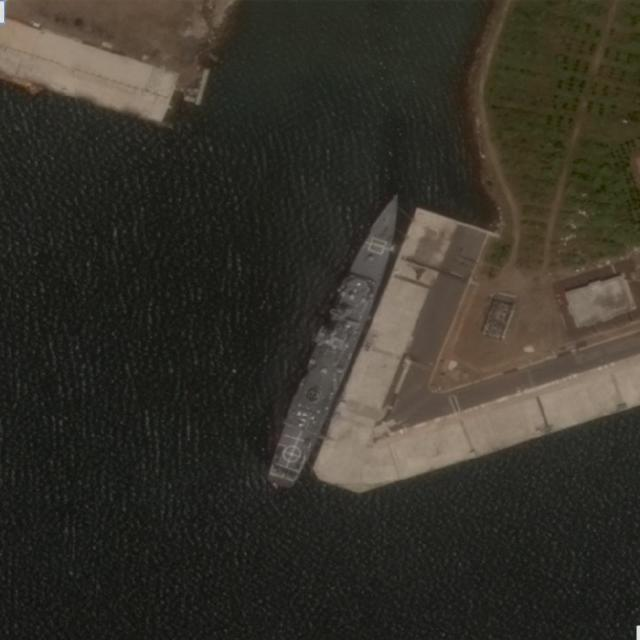Frigate: (266, 185, 413, 493)
